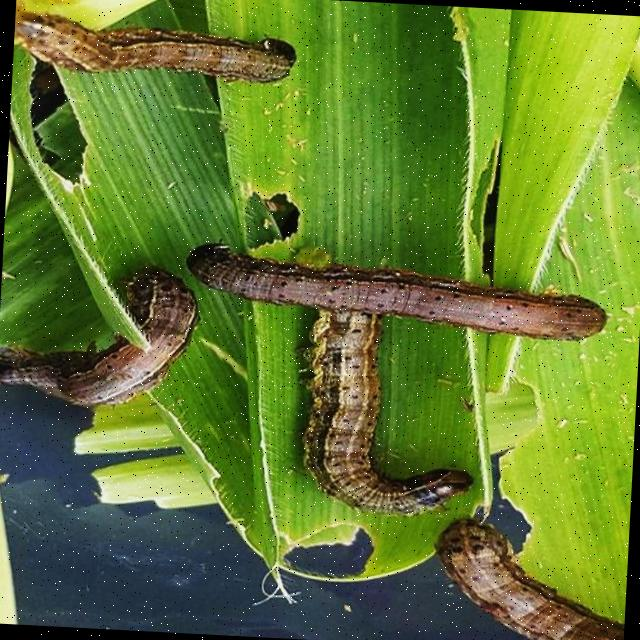worm: (175, 241, 612, 531), (184, 241, 613, 347), (296, 309, 485, 524), (1, 259, 205, 415), (430, 517, 631, 640), (15, 8, 301, 90)
